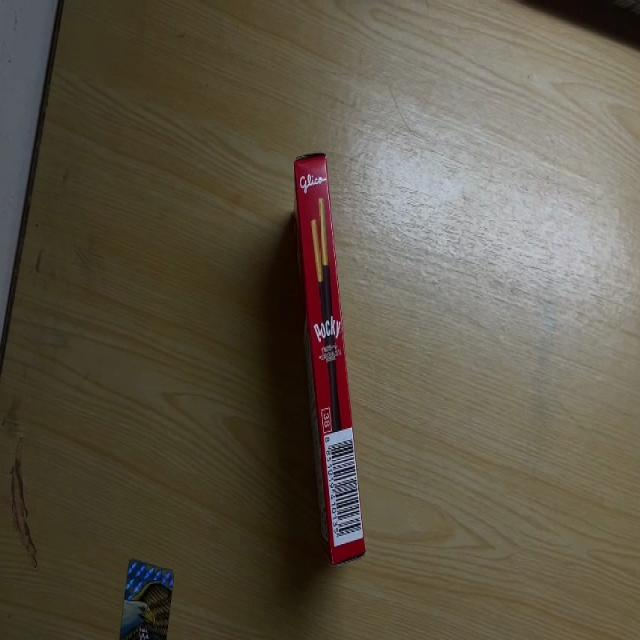Pocky: (292, 147, 370, 560)
